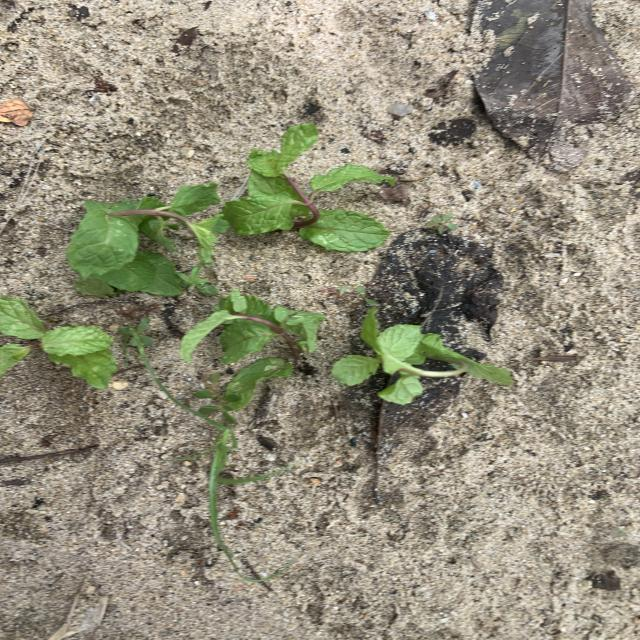crop: (223, 124, 395, 252), (66, 183, 228, 296), (332, 308, 513, 405), (181, 289, 325, 409), (0, 297, 117, 389)
weed: (119, 328, 273, 581), (194, 373, 243, 424), (117, 317, 156, 352), (176, 265, 218, 296), (327, 285, 379, 308), (428, 214, 457, 235)
